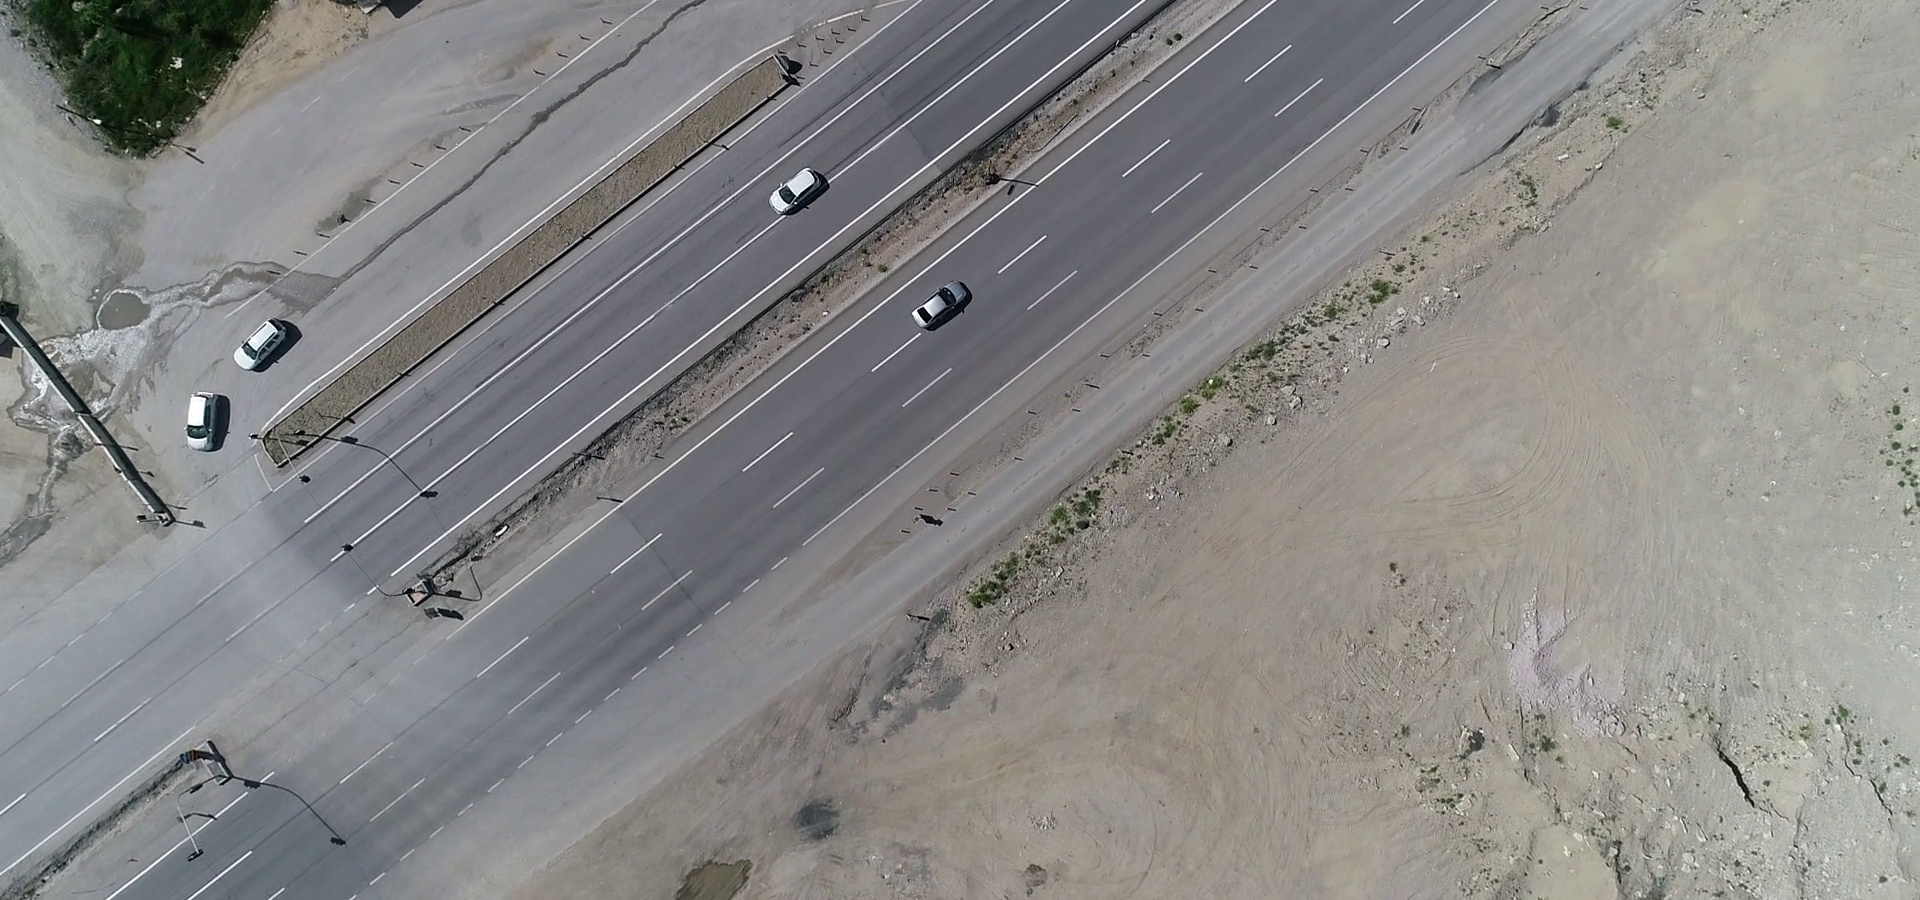arac: (907, 269, 978, 338), (223, 313, 291, 376), (760, 160, 827, 222), (176, 388, 220, 454)
